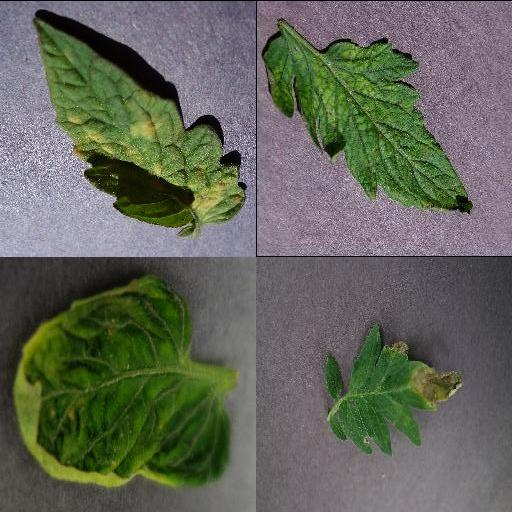Late Blight: (324, 323, 466, 455)
Leaf Mold: (32, 15, 248, 226)
Mosaic Virus: (261, 34, 475, 216)
Yellow Leaf Curl Virus: (13, 275, 233, 489)
